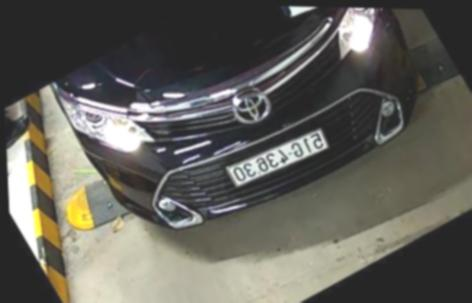License_Plate: (222, 125, 330, 194)
